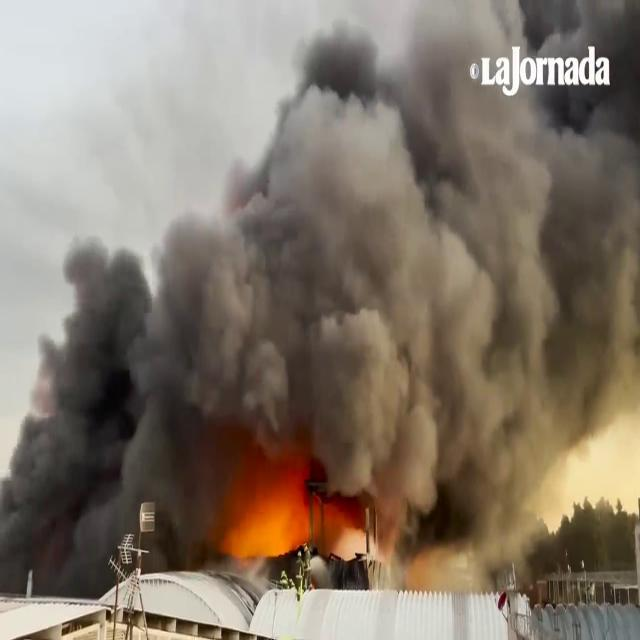Fire: (224, 458, 324, 561)
Smoke: (4, 3, 640, 553)
